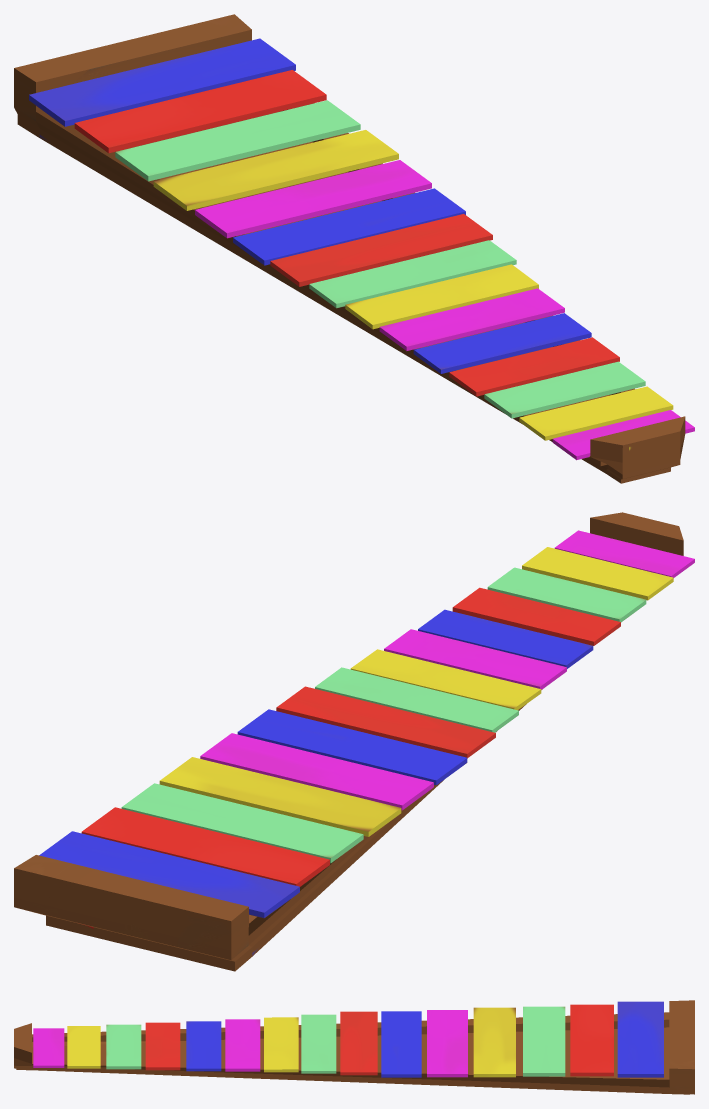
The model's file is SC_Xilophone.fbx.
3 views of the same model, one above another, from view 1: azimuth 30°, elevation 25°; view 2: azimuth 150°, elevation 25°; view 3: azimuth 270°, elevation 25° (orthographic). The views are drawn at different scales.
Visible parts, largest first — view 1: SC_Xilophone; view 2: SC_Xilophone; view 3: SC_Xilophone.
Part boxes in pixels (x1,y1,x2,y2): SC_Xilophone: (14, 14, 694, 483); SC_Xilophone: (14, 512, 694, 971); SC_Xilophone: (14, 1000, 694, 1094).
Size of the model in its own units: 69.63 by 15.49 by 278.
